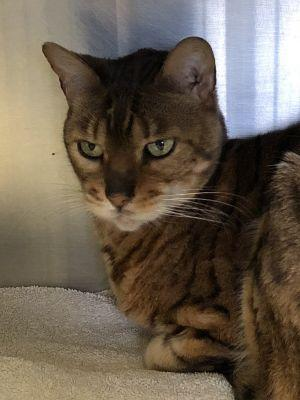bengal: (35, 19, 249, 255)
